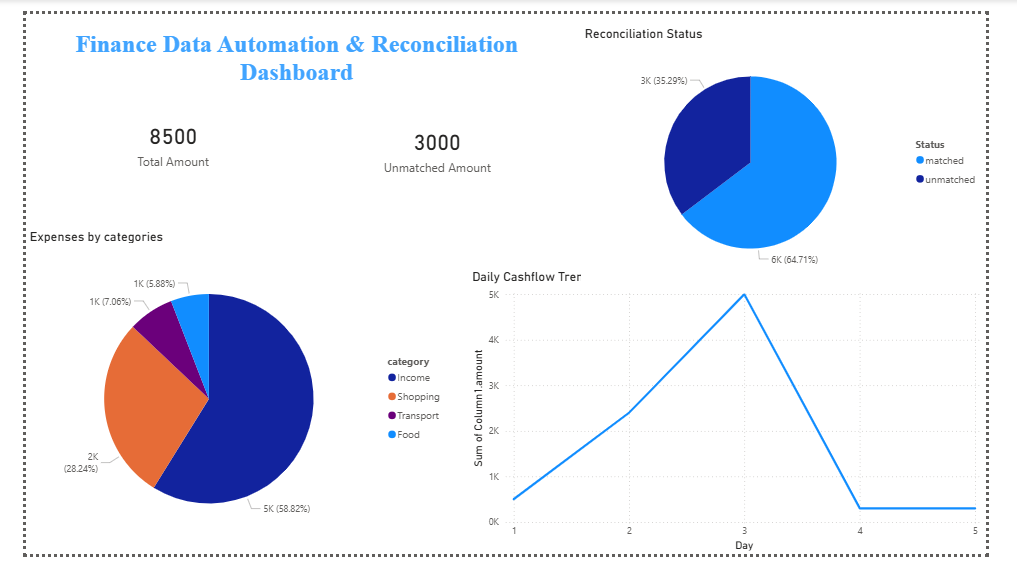

The page's visual inventory and layout, read from the dashboard file:
{"tool":"powerbi","page":{"name":"Page 1","canvas":[1280,720],"ordinal":0},"visuals":[{"type":"pieChart","title":"Expenses by categories","fields":{"Category":["Query1.Column1.category"],"Y":["Sum(Query1.Column1.amount)"]},"box":[0,286,566,434],"z":0},{"type":"lineChart","title":"Daily Cashflow Trend","fields":{"Category":["Query1.Column1.date.Variation.Date Hierarchy.Day"],"Y":["Sum(Query1.Column1.amount)"]},"box":[590,340,690,380],"z":1},{"type":"pieChart","title":"Reconciliation Status","fields":{"Category":["Query1.Column1.reconciliation_status"],"Y":["Sum(Query1.Column1.amount)"]},"box":[740,16,540,344],"z":2},{"type":"card","fields":{"Values":["Query1.Total Amount"]},"box":[0,108,392,126],"z":3},{"type":"card","fields":{"Values":["Query1.Unmatched Amount"]},"box":[374,108,348,142],"z":4},{"type":"textbox","box":[0,16,722,116],"z":5}]}

Visuals, with their boxes in screenshot pixels (x1, y1, x2, y2), scaled from the page's 1280x720 canvas onto the 1017x575 screenshot:
"Expenses by categories" pieChart: 0, 228, 450, 574
"Daily Cashflow Trend" lineChart: 469, 272, 1016, 574
"Reconciliation Status" pieChart: 588, 13, 1016, 288
card - Query1.Total Amount: 0, 86, 311, 187
card - Query1.Unmatched Amount: 297, 86, 574, 200
textbox: 0, 13, 574, 105
